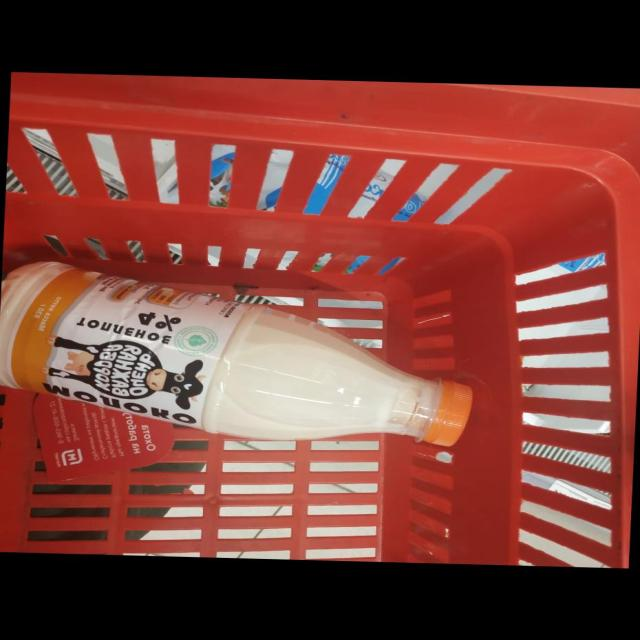milk: (22, 199, 111, 602)
